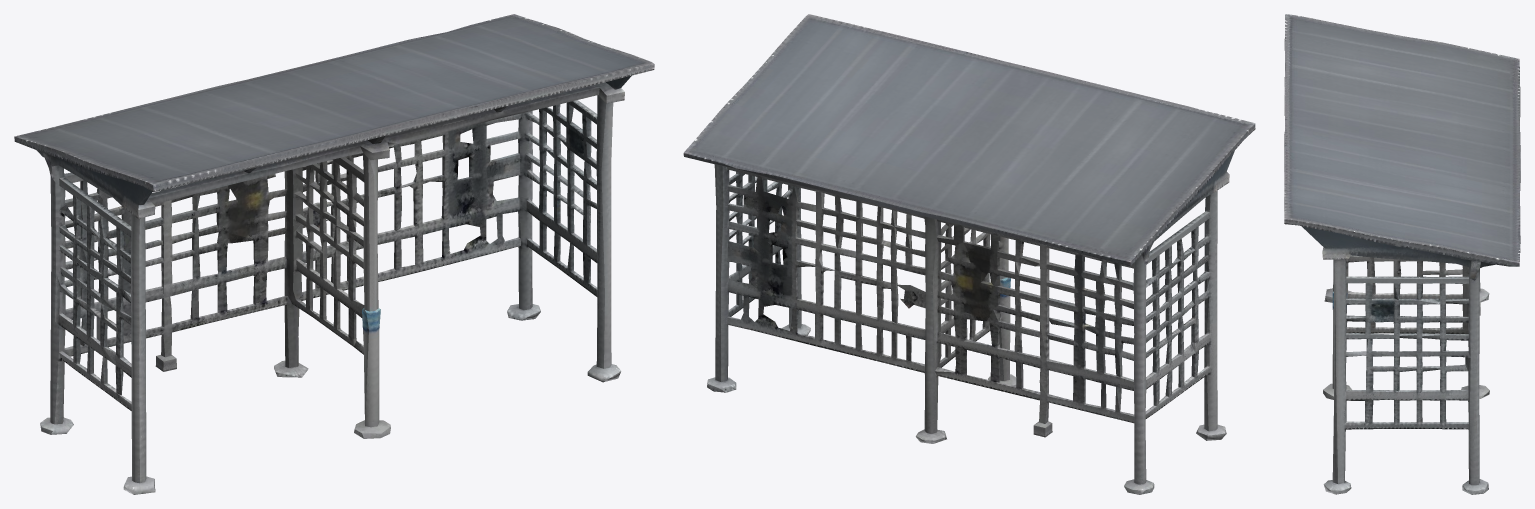
3 renders of one model, left to right at view 1: azimuth 30°, elevation 25°; view 2: azimuth 150°, elevation 25°; view 3: azimuth 270°, elevation 25°, orthographic. The views are drawn at different scales.
Visible parts, largest first — view 1: bike-shelter; view 2: bike-shelter; view 3: bike-shelter.
Part boxes in pixels (box(x1,y1,x2,y2)): bike-shelter: box(14, 14, 654, 494); bike-shelter: box(683, 14, 1255, 494); bike-shelter: box(1284, 14, 1520, 494).
Size of the model in its own units: 1.58 by 1 by 0.7716.
1 material, 1 textured.
